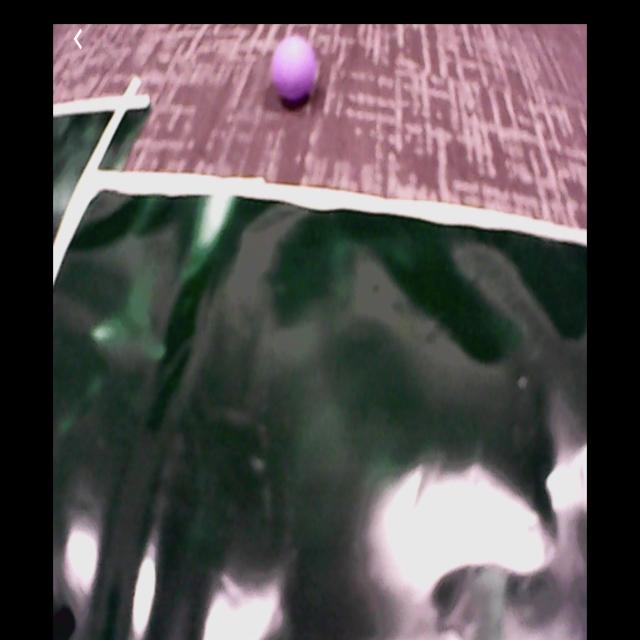ball: (271, 34, 319, 108)
